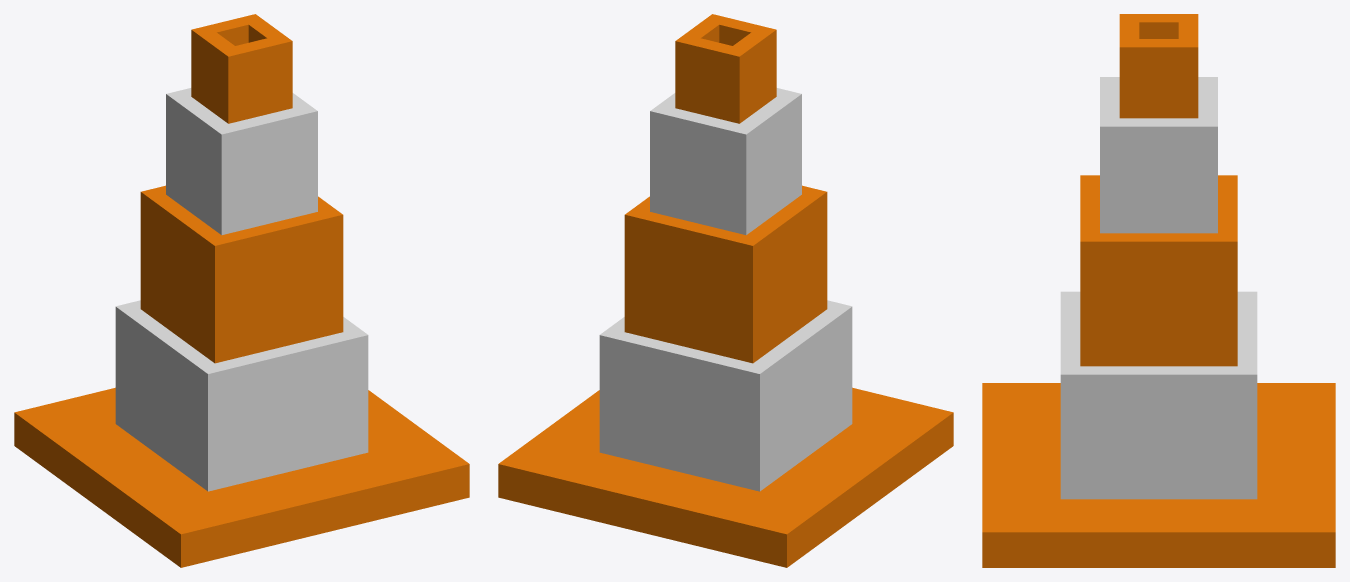
File: safety_cone.fbx
3 renders of one model, left to right at view 1: azimuth 30°, elevation 25°; view 2: azimuth 150°, elevation 25°; view 3: azimuth 270°, elevation 25°, orthographic. The views are drawn at different scales.
Parts seen in each view (by area): view 1: safety_cone; view 2: safety_cone; view 3: safety_cone.
Part boxes in pixels (bbox=[...]): safety_cone: bbox=[14, 14, 469, 567]; safety_cone: bbox=[498, 14, 953, 567]; safety_cone: bbox=[982, 14, 1335, 567].
Bounding box in the file's own units: 45 × 65 × 45.
